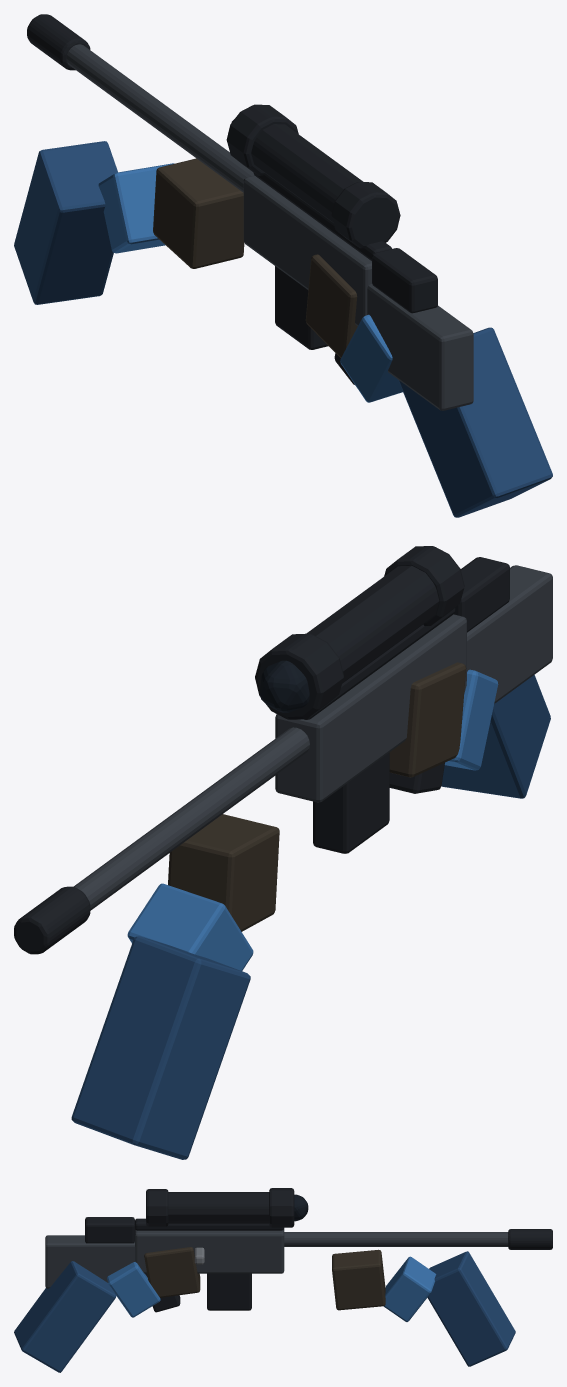
The picture shows the model from 3 angles, top to bottom: view 1: azimuth 30°, elevation 25°; view 2: azimuth 150°, elevation 25°; view 3: azimuth 270°, elevation 25°; orthographic projection. The views are drawn at different scales.
Parts seen in each view (by area): view 1: fp_sr; view 2: fp_sr; view 3: fp_sr.
Boxes of the visible parts, <box> form: fp_sr: <box>14,14,552,517</box>; fp_sr: <box>14,546,552,1159</box>; fp_sr: <box>14,1188,552,1372</box>.
Bounding box in the file's own units: 0.224 × 0.3977 × 1.08.
